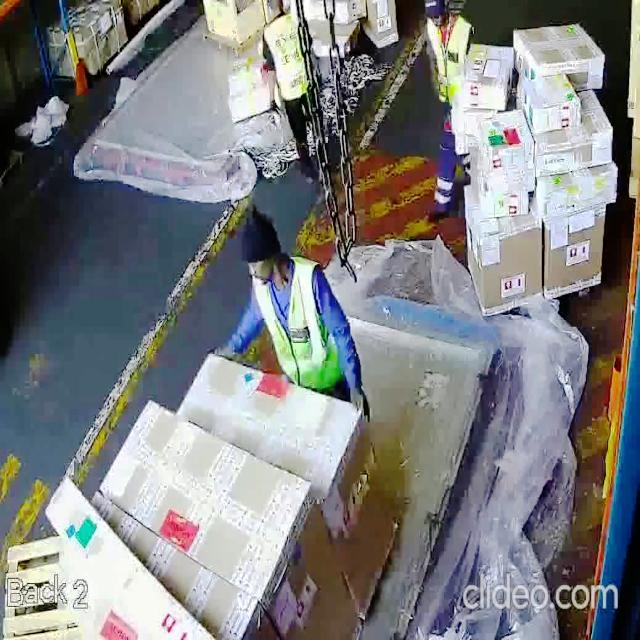Box: (195, 355, 420, 591), (120, 413, 313, 640), (464, 217, 544, 300), (543, 216, 604, 295), (515, 26, 603, 80), (477, 114, 535, 172), (457, 40, 507, 106), (546, 135, 617, 171), (546, 175, 617, 208), (528, 76, 574, 122)
